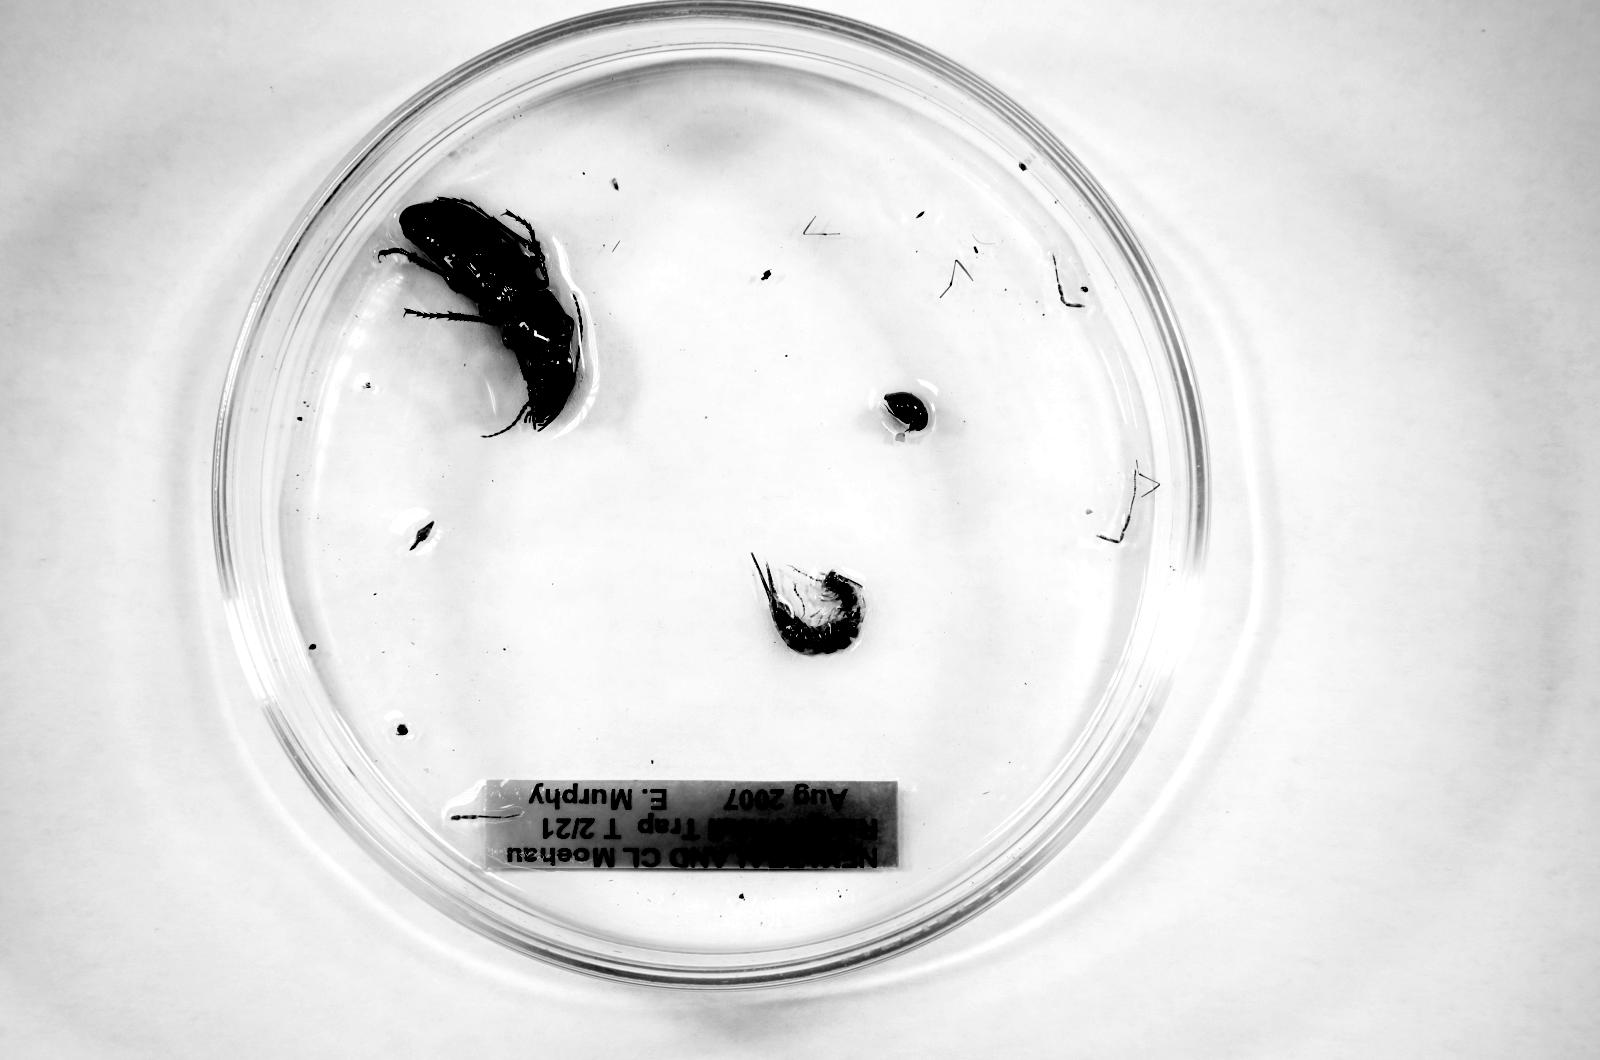archaeognatha: (752, 552, 866, 655)
carabidae: (382, 198, 579, 429)
coleoptera: (883, 392, 929, 433)
